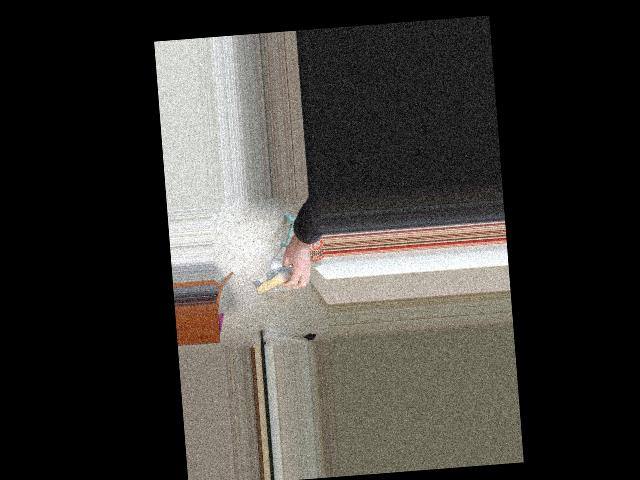cheese: (248, 262, 311, 294)
